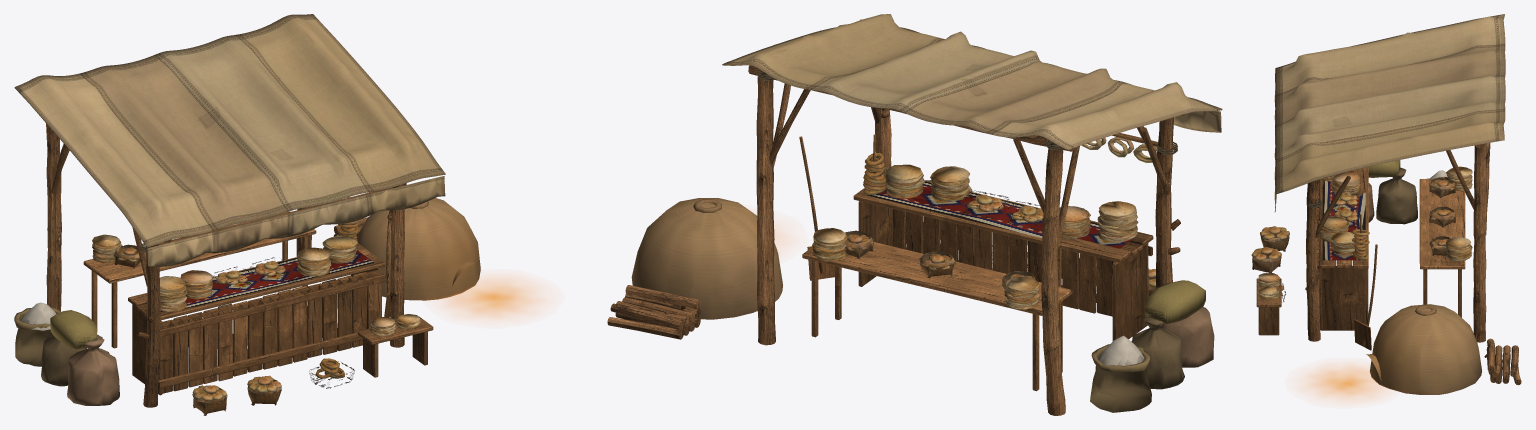
File: village-kiosk-2-v5-lite.glb
3 renders of one model, left to right at view 1: azimuth 30°, elevation 25°; view 2: azimuth 150°, elevation 25°; view 3: azimuth 270°, elevation 25°, orthographic. The views are drawn at different scales.
Parts seen in each view (by area): view 1: K2_Cloth, K2_Wood, K2_Props, K2_Bark, K2_Sack, K2_Glow; view 2: K2_Cloth, K2_Props, K2_Wood, K2_Bark, K2_Sack; view 3: K2_Cloth, K2_Props, K2_Wood, K2_Bark, K2_Sack, K2_Glow.
Part boxes in pixels (<box>): K2_Cloth: <box>14,14,445,266</box>; K2_Wood: <box>83,187,433,395</box>; K2_Props: <box>20,183,480,415</box>; K2_Bark: <box>46,123,405,407</box>; K2_Sack: <box>14,307,119,405</box>; K2_Glow: <box>444,278,541,318</box>; K2_Cloth: <box>722,14,1222,149</box>; K2_Props: <box>631,70,1177,365</box>; K2_Wood: <box>799,133,1174,391</box>; K2_Bark: <box>607,65,1184,415</box>; K2_Sack: <box>1090,280,1214,412</box>; K2_Cloth: <box>1274,14,1505,211</box>; K2_Props: <box>1251,166,1481,394</box>; K2_Wood: <box>1256,167,1465,350</box>; K2_Bark: <box>1305,143,1521,385</box>; K2_Sack: <box>1352,160,1429,224</box>; K2_Glow: <box>1305,364,1385,400</box>.
Size of the model in its own units: 6.02 by 2.9 by 3.27.
7 materials, 7 textured.
